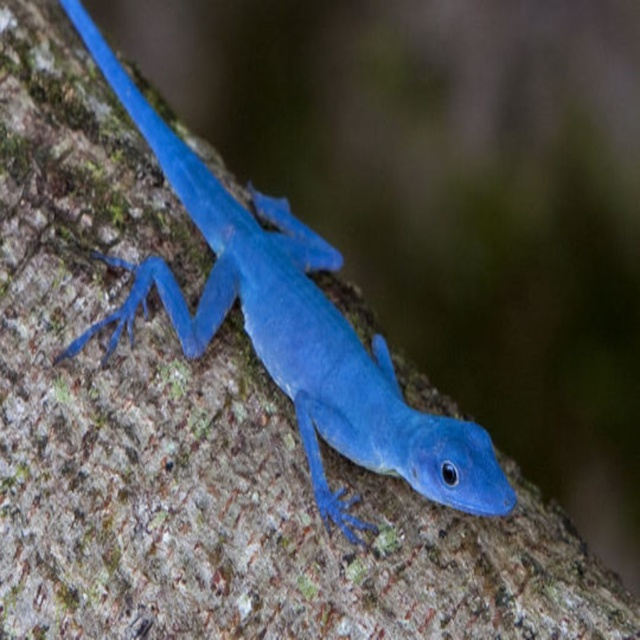Lizard: (62, 0, 513, 540)
